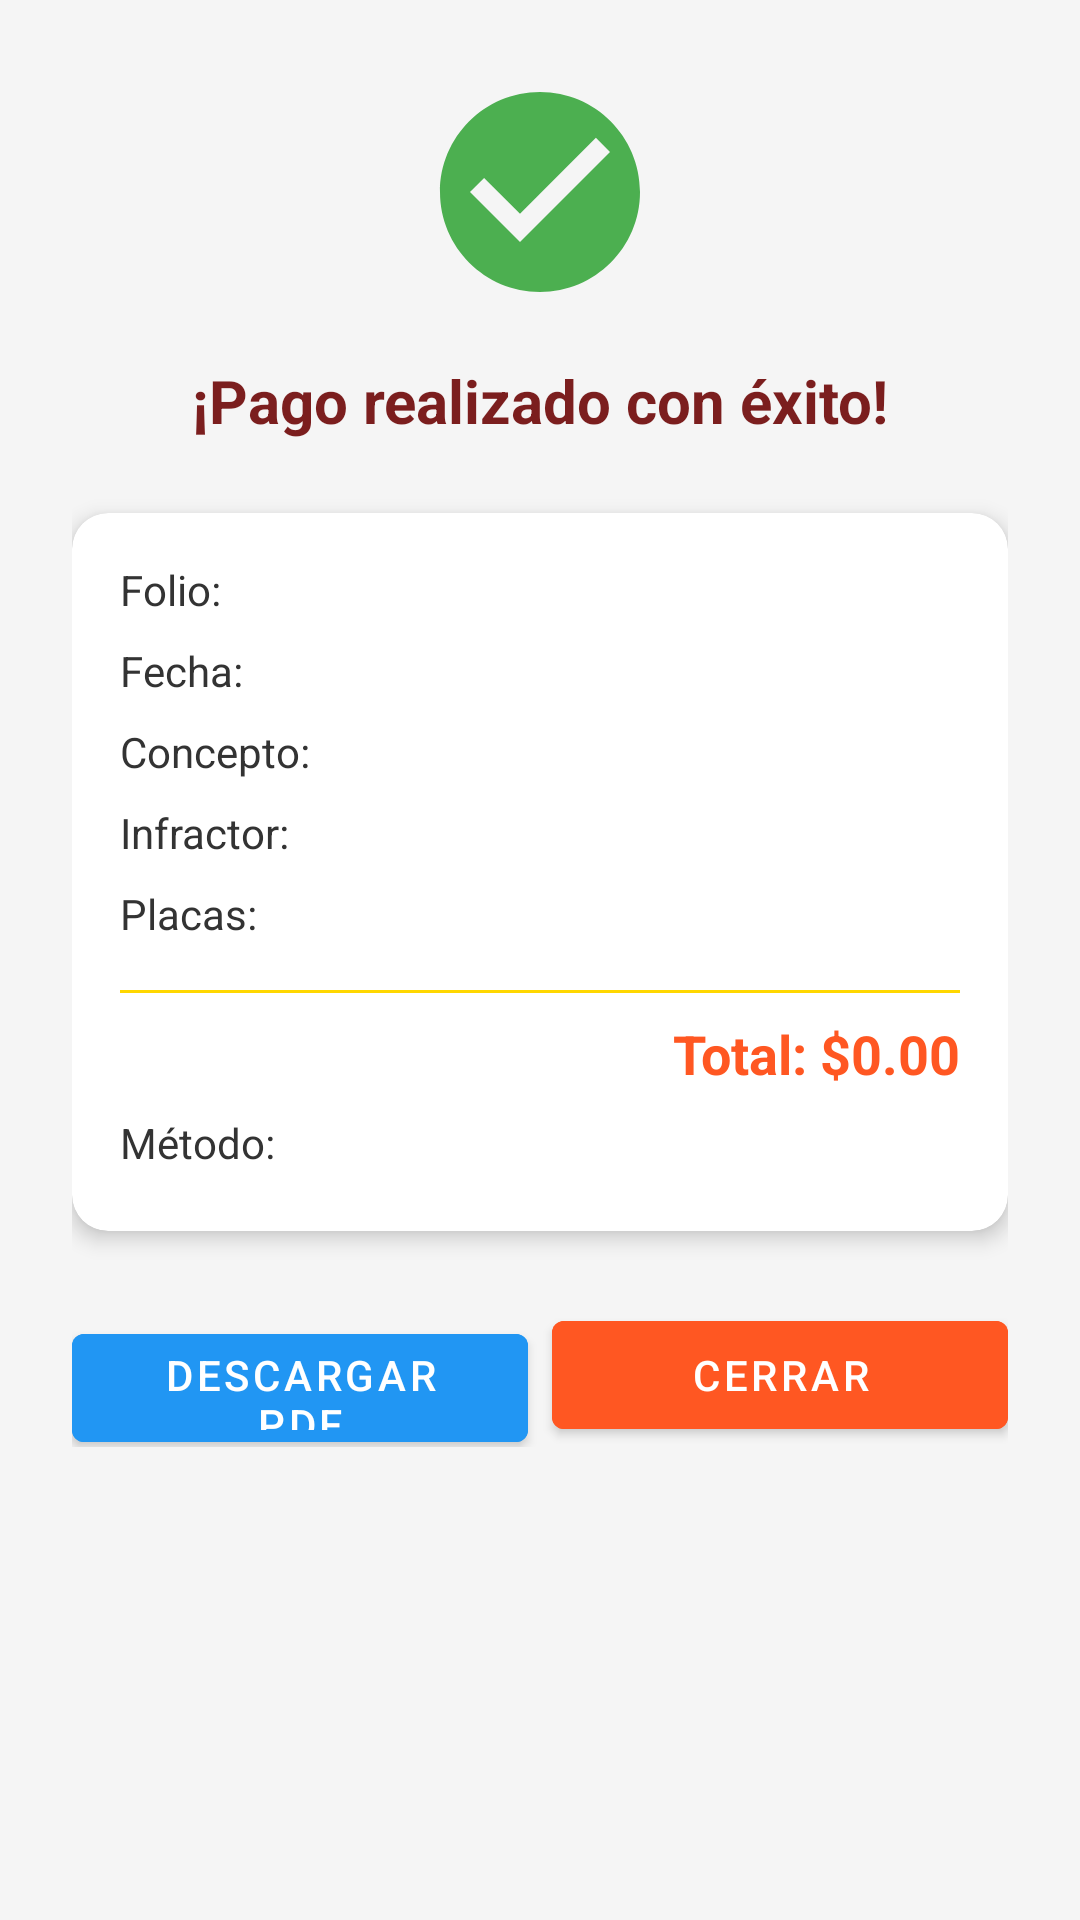

Where icons sit on this 1080×1920 app screen, as (x1, y1, x2, y2):
check circle: (440, 92, 640, 292)
